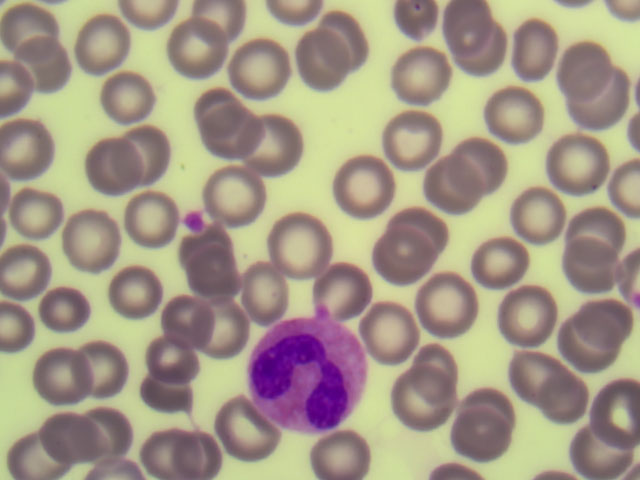Platelets: (177, 208, 209, 238)
RBC: (8, 426, 61, 480), (577, 426, 630, 480), (321, 426, 374, 480), (4, 1, 57, 54), (19, 37, 72, 90), (7, 122, 60, 175), (14, 180, 67, 233), (1, 239, 54, 292), (41, 284, 94, 337), (107, 265, 160, 318), (67, 214, 120, 267), (117, 186, 170, 239), (77, 140, 130, 193), (121, 118, 174, 171), (104, 70, 157, 123), (81, 18, 134, 71), (170, 22, 223, 75), (240, 41, 293, 94), (197, 77, 250, 130), (204, 106, 257, 159), (242, 110, 295, 163), (213, 169, 266, 222), (182, 225, 235, 278), (193, 268, 246, 321), (163, 287, 216, 340), (199, 288, 252, 341), (149, 329, 202, 382), (138, 360, 191, 413), (82, 340, 135, 393), (37, 348, 90, 401), (40, 406, 93, 459), (86, 405, 139, 458), (142, 423, 195, 476), (213, 405, 266, 458), (231, 263, 284, 316), (284, 215, 337, 268), (314, 264, 367, 317), (336, 155, 389, 208), (384, 114, 437, 167), (396, 44, 449, 97), (291, 36, 344, 89), (315, 10, 368, 63), (451, 29, 504, 82), (439, 1, 492, 54), (514, 22, 567, 75), (491, 86, 544, 139), (454, 134, 507, 187), (426, 157, 479, 210), (389, 209, 442, 262), (376, 230, 429, 283), (417, 271, 470, 324), (365, 302, 418, 355), (413, 350, 466, 403), (397, 376, 450, 429), (456, 395, 509, 448), (463, 375, 516, 428), (501, 351, 554, 404), (542, 350, 595, 403), (562, 311, 615, 364), (578, 297, 631, 350), (495, 288, 548, 341), (478, 241, 531, 294), (514, 187, 567, 240), (548, 137, 601, 190), (571, 77, 624, 130), (559, 45, 612, 98), (579, 200, 632, 253), (561, 246, 614, 299), (587, 388, 640, 441)
WBC: (251, 317, 368, 435)
